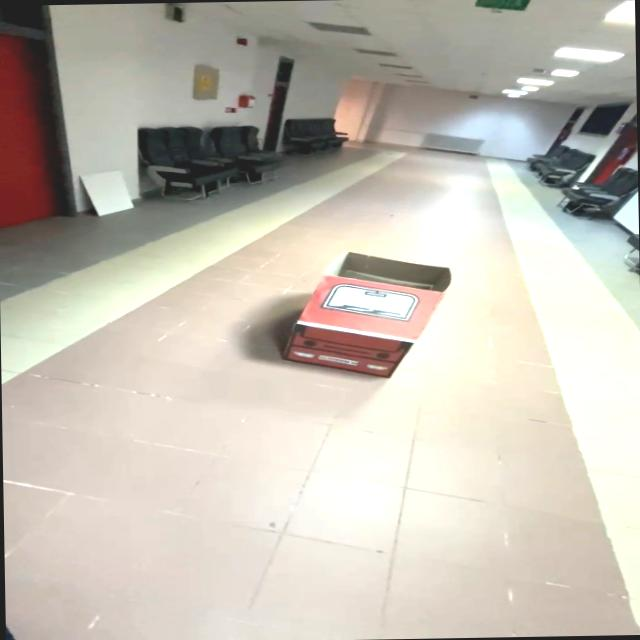red_car: (246, 235, 489, 406)
